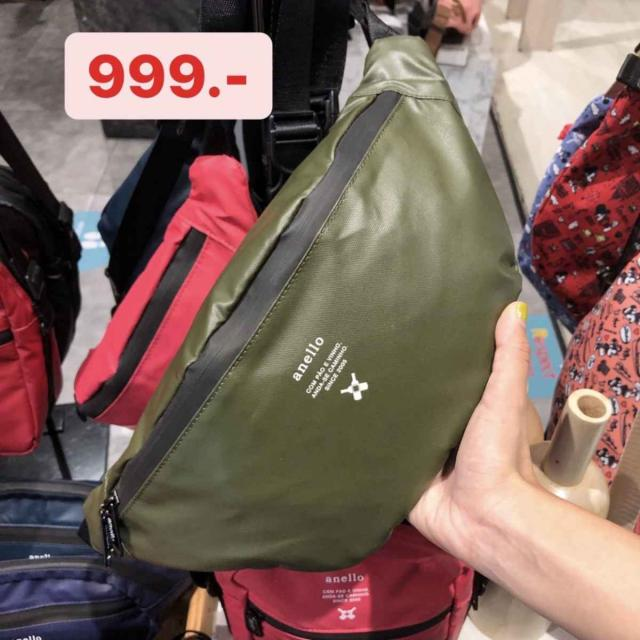Handbag: (78, 8, 536, 571)
